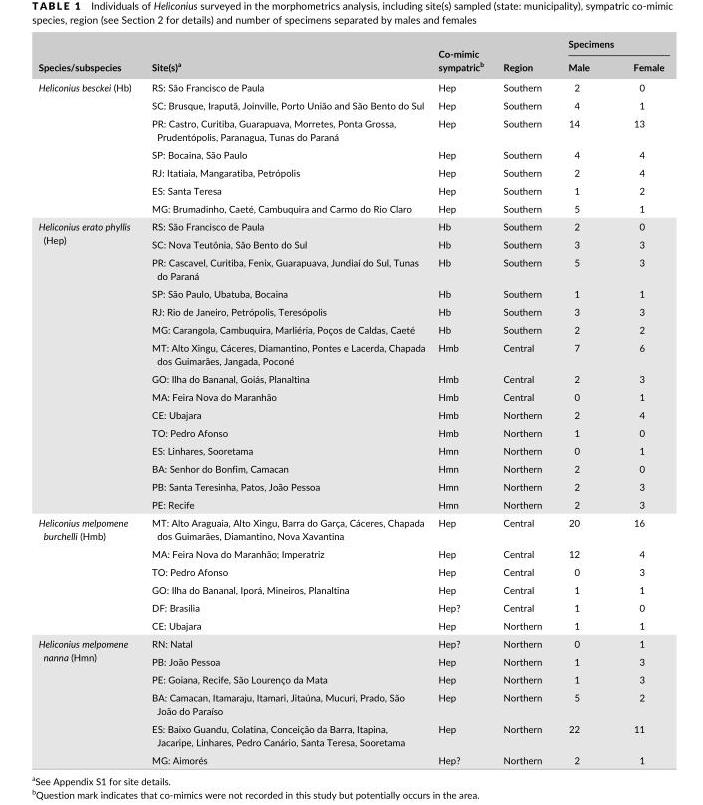table: (37, 37, 663, 765)
table column: (140, 37, 431, 765), (37, 37, 140, 765), (492, 37, 554, 765), (431, 37, 492, 765), (554, 37, 610, 765), (610, 37, 663, 765)
table column header: (37, 37, 663, 76)
table row: (37, 113, 663, 145), (37, 252, 663, 284), (37, 512, 663, 544), (37, 687, 663, 719), (37, 338, 663, 369), (37, 719, 663, 750), (37, 54, 663, 76), (37, 76, 663, 95), (37, 95, 663, 113), (37, 145, 663, 163), (37, 163, 663, 181), (37, 198, 663, 216), (37, 216, 663, 234), (37, 234, 663, 252), (37, 284, 663, 302), (37, 302, 663, 320), (37, 320, 663, 338), (37, 369, 663, 387), (37, 387, 663, 405), (37, 405, 663, 423), (37, 423, 663, 441), (37, 441, 663, 459), (37, 459, 663, 477), (37, 477, 663, 495), (37, 544, 663, 562), (37, 562, 663, 580), (37, 580, 663, 598), (37, 598, 663, 616), (37, 616, 663, 634), (37, 651, 663, 669), (37, 669, 663, 687), (37, 37, 663, 54), (37, 181, 663, 198), (37, 495, 663, 512), (37, 634, 663, 651), (37, 750, 663, 765)
table spanning cell: (37, 216, 140, 512), (37, 76, 140, 216), (37, 634, 140, 765), (37, 512, 140, 634), (140, 37, 431, 76), (37, 37, 140, 76), (492, 37, 554, 76), (431, 37, 492, 76), (554, 37, 663, 54)
